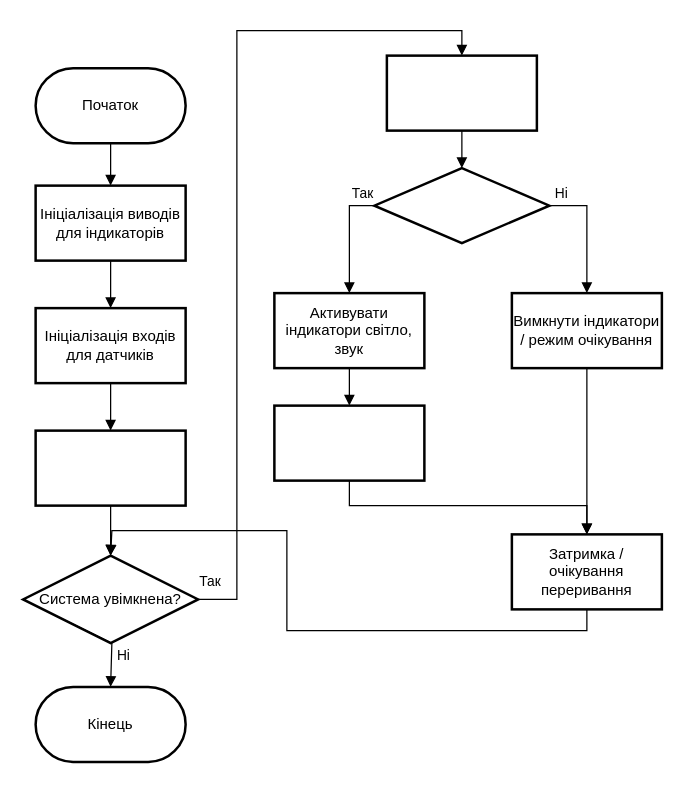
Some shapes in this 684 by 785 pixel diagram are drawn without their labels. The box of each missing label's shape, as (x1, y1, x2, y2) in pixels:
Записати подію або передати по зв'язку: (272, 404, 425, 481)
Зчитати сигнали з датчиків: (385, 54, 538, 131)
Тривожна ситуація?: (372, 166, 550, 244)
Ініціалізація таймерів за потреби: (34, 429, 186, 506)
